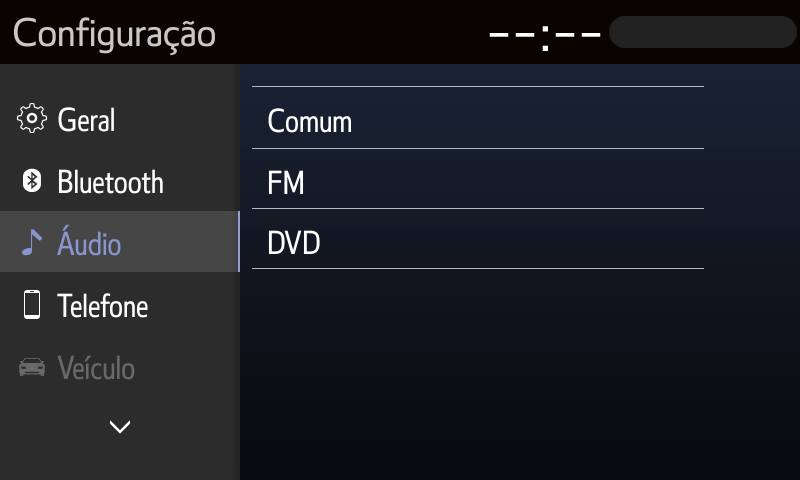touchPart: (250, 81, 707, 156), (252, 145, 705, 215), (252, 206, 706, 274), (17, 90, 124, 148), (16, 164, 172, 203), (17, 289, 152, 330), (92, 411, 142, 439)
untouchPart: (1, 209, 240, 276), (473, 13, 798, 56), (8, 17, 224, 53), (16, 351, 136, 390)
